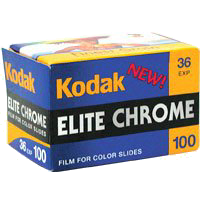grozi_114: (0, 29, 200, 172)
